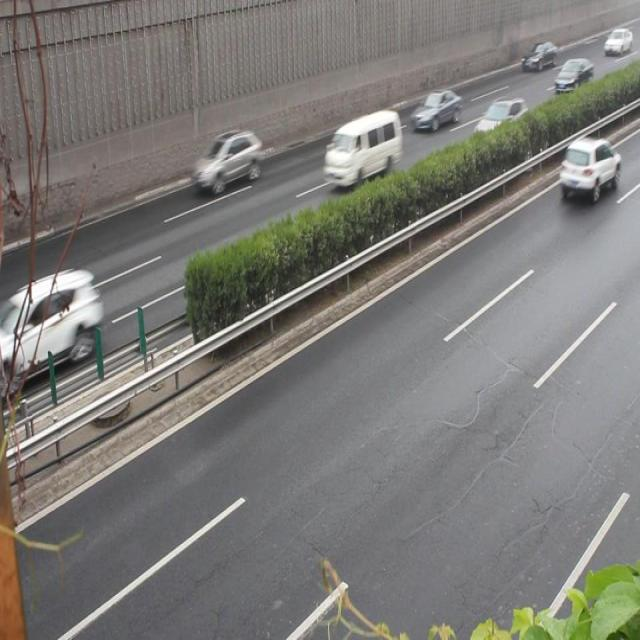car: (1, 268, 102, 380), (194, 128, 260, 192), (558, 138, 620, 200), (472, 100, 529, 148), (409, 88, 462, 134)
truck: (322, 112, 401, 185)
